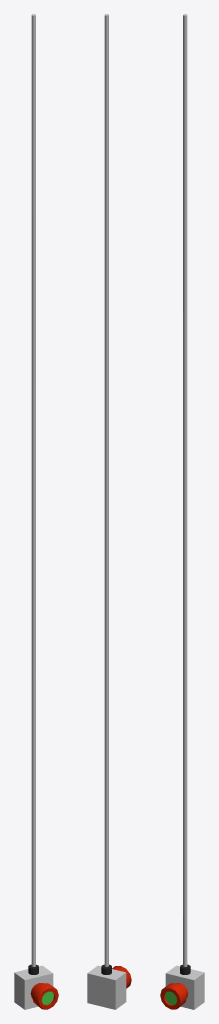
Rendered from light_switch.fbx.
The picture shows the model from 3 angles, left to right: view 1: azimuth 30°, elevation 25°; view 2: azimuth 150°, elevation 25°; view 3: azimuth 330°, elevation 25°; orthographic projection.
Parts seen in each view (by area): view 1: Housing, Button; view 2: Housing; view 3: Housing, Button.
Part boxes in pixels (x1,y1,x2,y2): Housing: [14, 14, 53, 1009]; Button: [30, 983, 58, 1009]; Housing: [87, 14, 126, 1009]; Housing: [165, 14, 204, 1009]; Button: [160, 983, 188, 1009].
Size of the model in its own units: 0.6236 by 20.73 by 0.7665.
